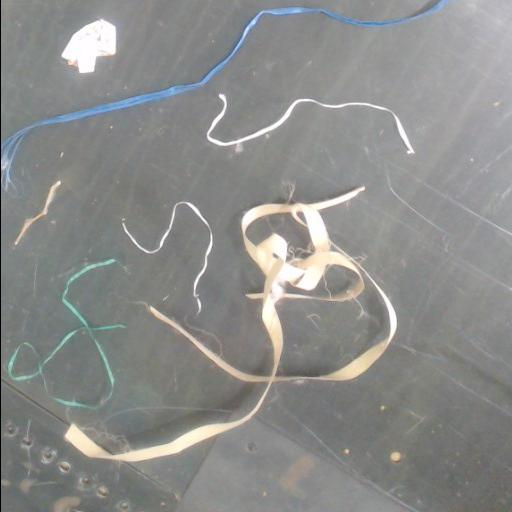cloth: (1, 0, 451, 179)
conveyor belt: (1, 0, 512, 511), (1, 0, 421, 134)
packet: (61, 20, 115, 73)
thread: (71, 187, 396, 460), (7, 260, 124, 408), (206, 93, 414, 152), (122, 201, 212, 313), (14, 182, 60, 243)
